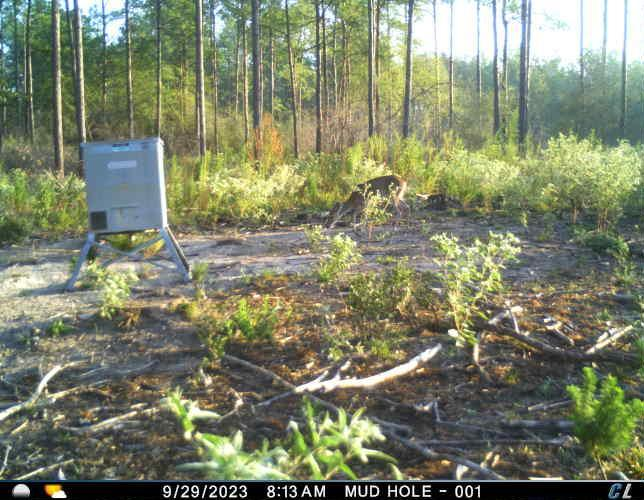Deer: (325, 172, 414, 242)
